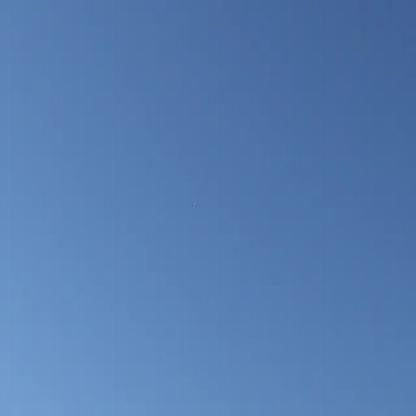CIV_Plane: (190, 196, 199, 210)
